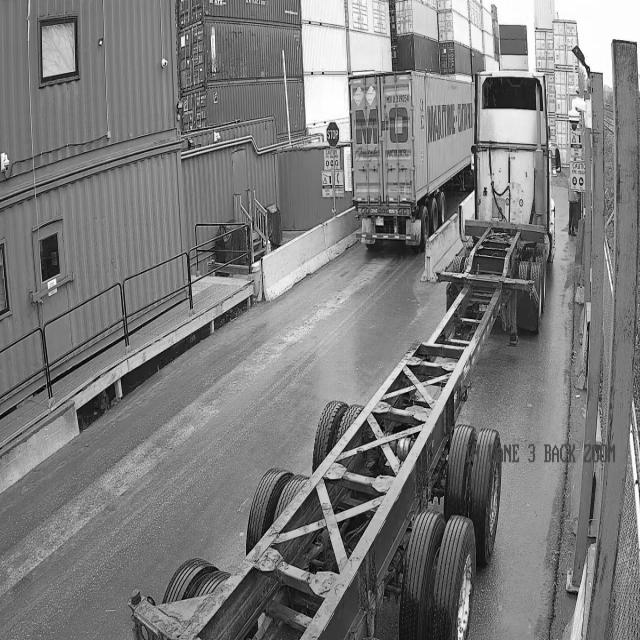container_company_logo: (425, 102, 473, 140)
truck_with_container: (350, 71, 474, 244)
truck_without_container: (130, 71, 560, 639)
